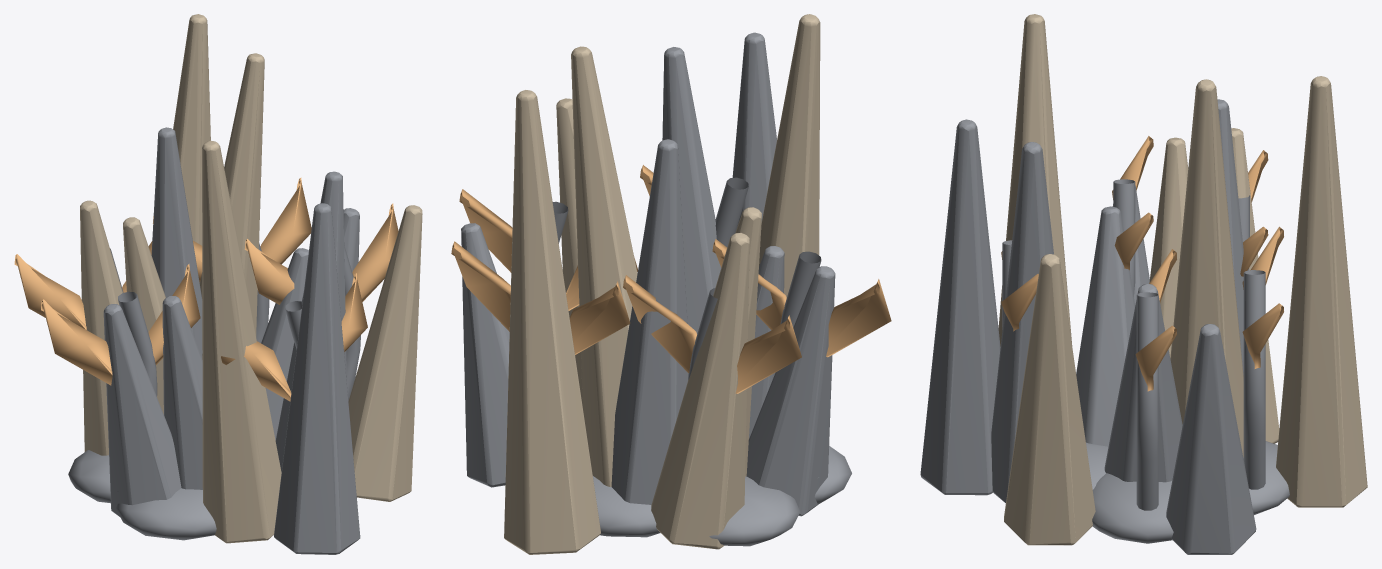
Rendered from bio_crystal_fan_22_far.glb.
The picture shows the model from 3 angles, left to right: view 1: azimuth 30°, elevation 25°; view 2: azimuth 150°, elevation 25°; view 3: azimuth 270°, elevation 25°; orthographic projection. The views are drawn at different scales.
Parts seen in each view (by area): view 1: Reflecting mineral prism.007, Reflecting mineral prism.002, Reflecting mineral prism.005, Reflecting mineral prism.004, Reflecting mineral prism.003, Reflecting mineral prism.012, Reflecting mineral prism.006, Reflecting mineral prism.001, Reflecting mineral prism.011, Mineral substrate, Secondary fan lobe.008, Secondary fan lobe (+11 smaller); view 2: Reflecting mineral prism.011, Reflecting mineral prism.001, Reflecting mineral prism.006, Reflecting mineral prism.003, Reflecting mineral prism.004, Reflecting mineral prism.007, Reflecting mineral prism.008, Reflecting mineral prism.010, Mineral substrate, Reflecting mineral prism.002, Secondary fan lobe.002, Secondary fan lobe.006 (+8 smaller); view 3: Reflecting mineral prism.011, Reflecting mineral prism.002, Reflecting mineral prism.005, Reflecting mineral prism.003, Reflecting mineral prism.008, Reflecting mineral prism.010, Reflecting mineral prism.012, Reflecting mineral prism.007, Mineral substrate, Reflecting mineral prism, Branching support, Branching support.003 (+10 smaller).
Part boxes in pixels (x1,y1,x2,y2): Reflecting mineral prism.007: (202,140,281,543); Reflecting mineral prism.002: (274,203,360,554); Reflecting mineral prism.005: (348,205,422,501); Reflecting mineral prism.004: (103,304,181,517); Reflecting mineral prism.003: (199,53,264,359); Reflecting mineral prism.012: (162,296,202,489); Reflecting mineral prism.006: (151,127,202,358); Reflecting mineral prism.001: (80,200,122,455); Reflecting mineral prism.011: (173,14,210,245); Mineral substrate: (68,450,216,540); Secondary fan lobe.008: (41,264,200,385); Secondary fan lobe: (244,203,398,304); Reflecting mineral prism.011: (504,90,600,554); Reflecting mineral prism.001: (651,233,749,549); Reflecting mineral prism.006: (611,139,688,504); Reflecting mineral prism.003: (571,46,637,486); Reflecting mineral prism.004: (746,266,835,516); Reflecting mineral prism.007: (759,14,820,297); Reflecting mineral prism.008: (461,223,509,487); Reflecting mineral prism.010: (662,47,721,333); Mineral substrate: (593,446,851,546); Reflecting mineral prism.002: (732,32,776,225); Secondary fan lobe.002: (623,275,801,393); Secondary fan lobe.006: (451,241,630,354); Reflecting mineral prism.011: (1276,76,1367,507); Reflecting mineral prism.002: (920,119,1000,495); Reflecting mineral prism.005: (1004,254,1095,545); Reflecting mineral prism.003: (1170,79,1243,456); Reflecting mineral prism.008: (1166,324,1256,554); Reflecting mineral prism.010: (991,142,1053,503); Reflecting mineral prism.012: (1076,206,1135,446); Reflecting mineral prism.007: (998,14,1072,346); Mineral substrate: (1086,441,1289,543); Reflecting mineral prism: (1104,284,1182,482); Branching support: (1136,292,1158,510); Branching support.003: (1243,270,1265,489).
Bounding box in the file's own units: 1.85 × 1.97 × 1.82.
